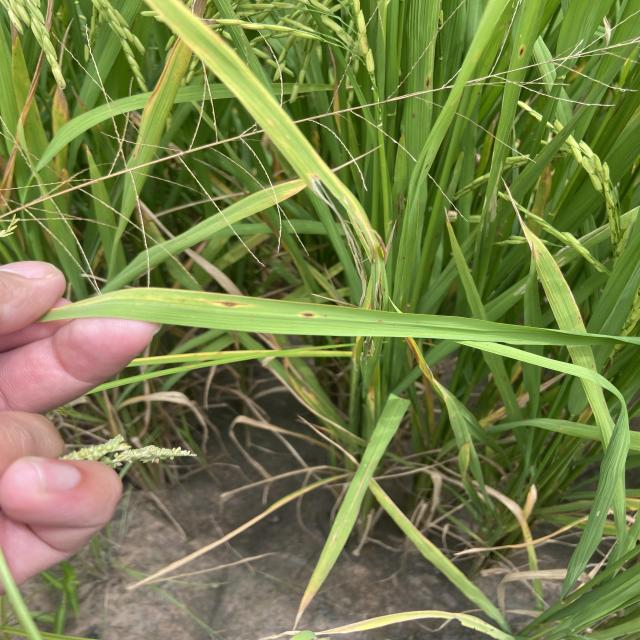Dao on: (212, 301, 251, 307), (298, 312, 318, 318)
